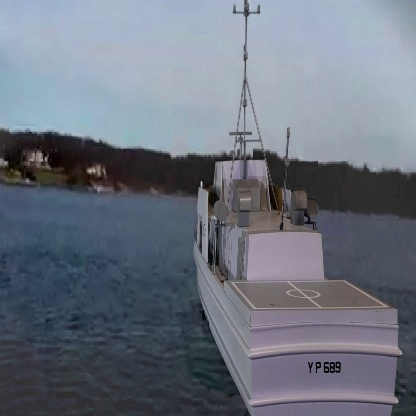YP689: (192, 0, 401, 416)
